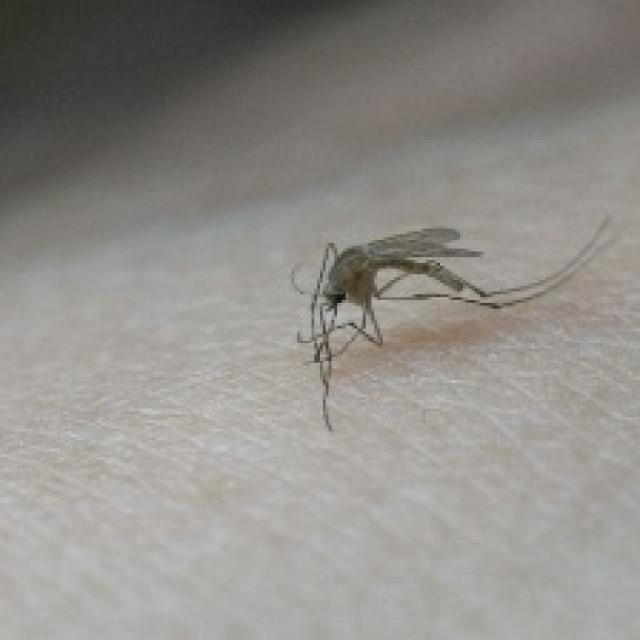culex: (289, 212, 617, 432)
